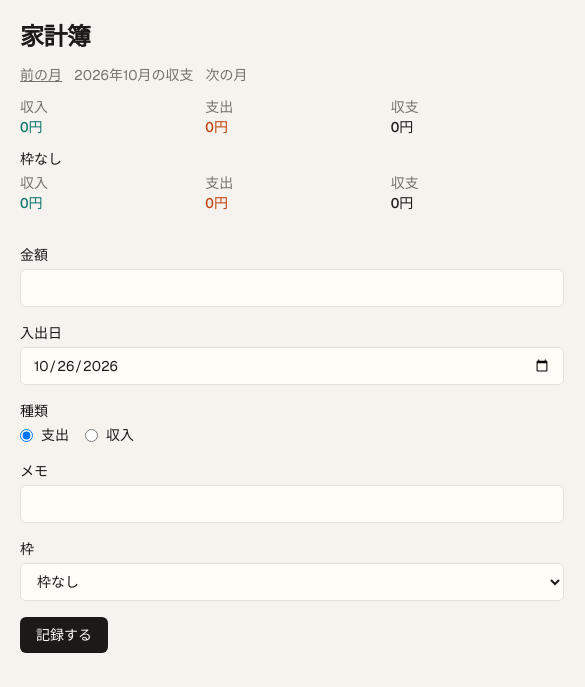
it: 入出金を消せる
In the field labelled "金額": (292, 288) [20,269,564,307], type "5000"
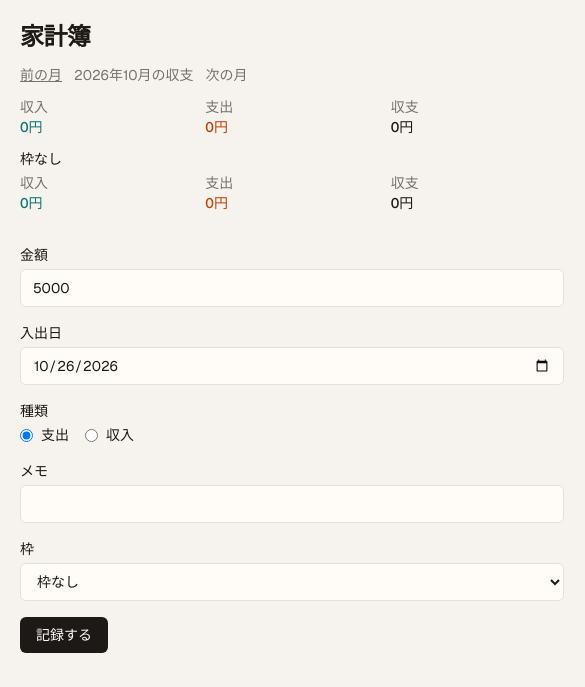
Click the button "記録する": (64, 635) [20,617,108,653]
(page scrolled)
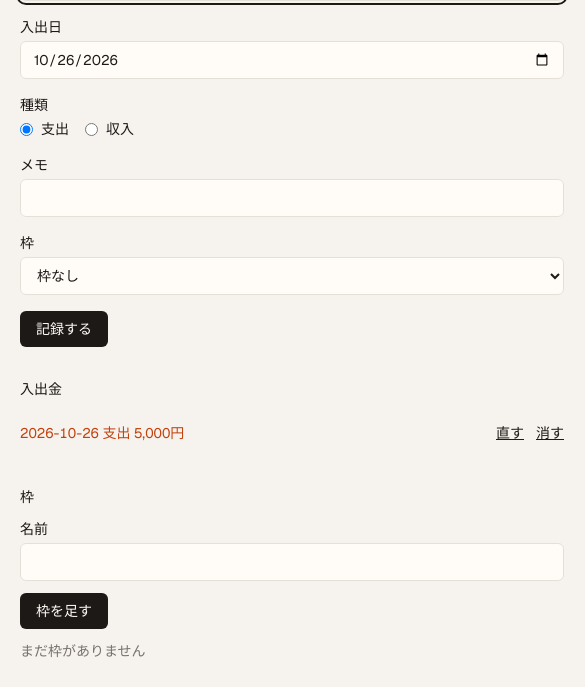
Click the button "消す": (550, 433) [536,423,564,443]
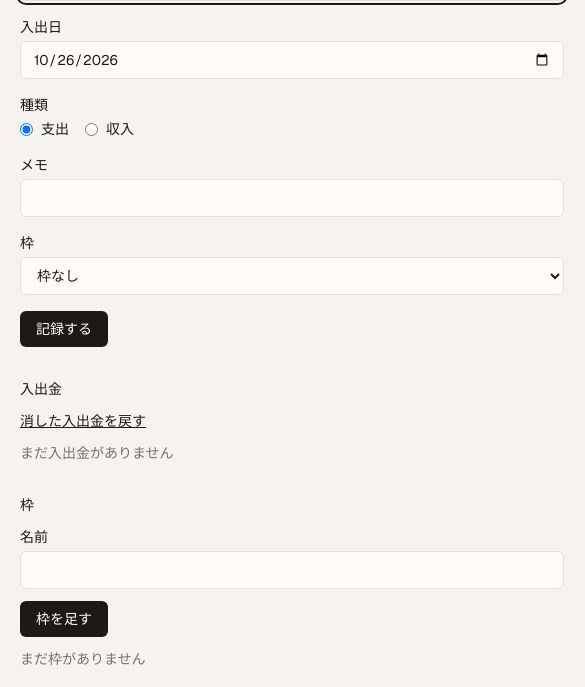
Expected: the text "まだ入出金がありません" is shown, [20,444,174,462]
